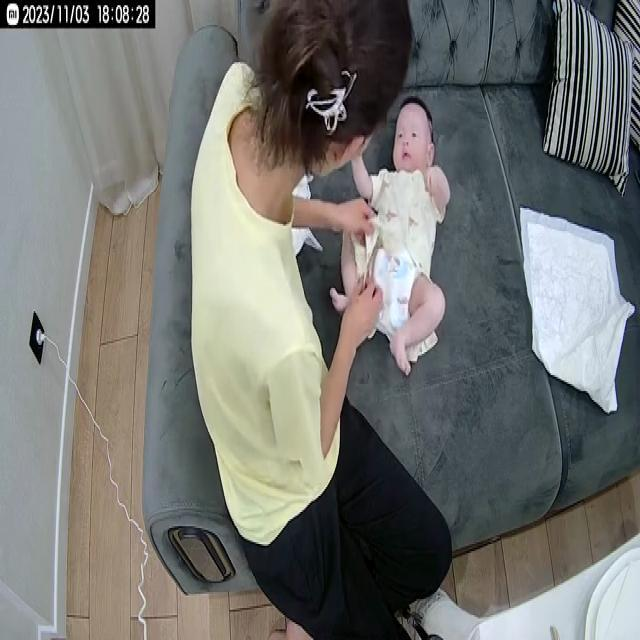baby: (328, 93, 454, 378)
